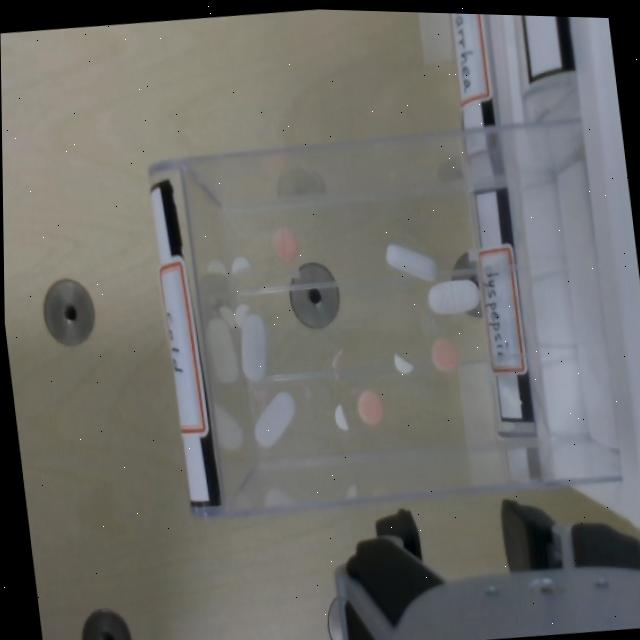amoxicle_tab: (253, 391, 293, 445), (384, 242, 435, 279), (426, 277, 478, 313), (239, 313, 265, 380)
panstar_tab: (429, 337, 456, 370), (355, 389, 381, 423), (272, 227, 296, 260)
sudafed_tab: (392, 352, 411, 372), (333, 402, 347, 428), (229, 255, 248, 273), (233, 302, 247, 326)
